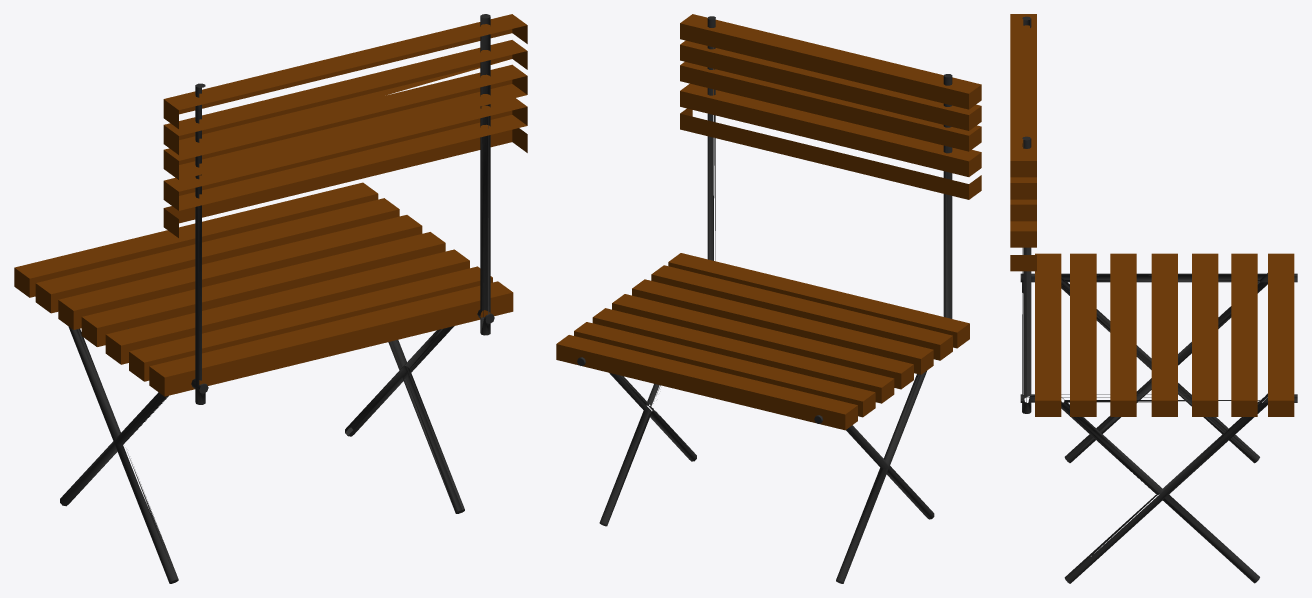
Rendered from Silla.fbx.
3 renders of one model, left to right at view 1: azimuth 30°, elevation 25°; view 2: azimuth 150°, elevation 25°; view 3: azimuth 270°, elevation 25°, orthographic. The views are drawn at different scales.
Visible parts, largest first — view 1: BASE, Fierro; view 2: BASE, Fierro; view 3: BASE, Fierro.
Boxes of the visible parts, <box> form: BASE: <box>14,14,527,396</box>; Fierro: <box>60,14,494,583</box>; BASE: <box>556,14,981,430</box>; Fierro: <box>577,16,952,583</box>; BASE: <box>1010,14,1294,416</box>; Fierro: <box>1020,16,1297,583</box>.
Bounding box in the file's own units: 44.42 × 62.83 × 36.69.
